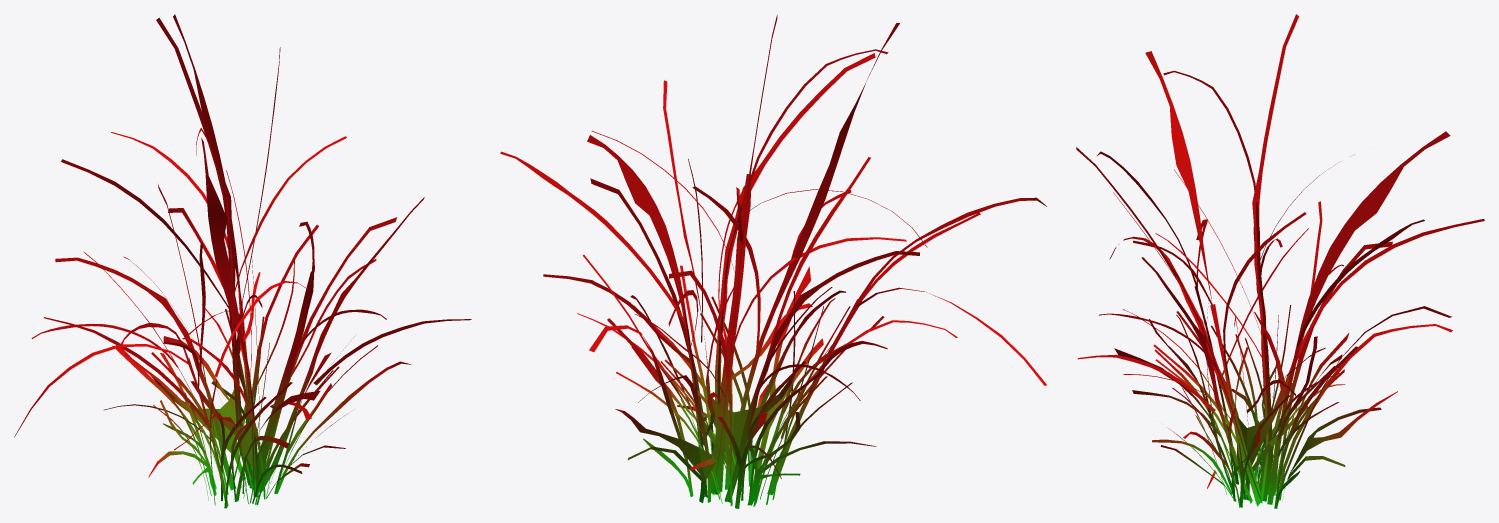
Rendered from Grass_A_Var5.FBX.
The picture shows the model from 3 angles, left to right: view 1: azimuth 30°, elevation 25°; view 2: azimuth 150°, elevation 25°; view 3: azimuth 270°, elevation 25°; orthographic projection. The views are drawn at different scales.
Visible parts, largest first — view 1: Grass_A_Var5_LOD00; view 2: Grass_A_Var5_LOD00; view 3: Grass_A_Var5_LOD00.
Part boxes in pixels (box(x1,y1,x2,y2)): Grass_A_Var5_LOD00: box(14, 14, 471, 508); Grass_A_Var5_LOD00: box(500, 14, 1046, 508); Grass_A_Var5_LOD00: box(1076, 14, 1484, 508).
Size of what is drawn, in the model's own units: 141 by 155 by 127.
